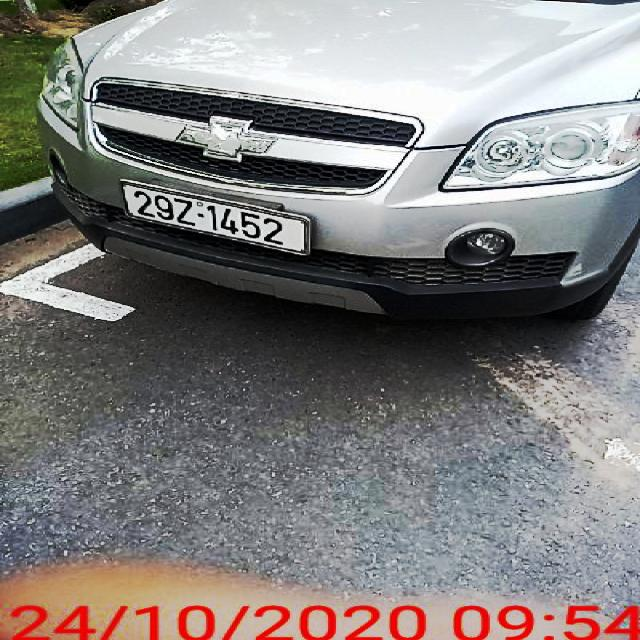license_plate: (125, 180, 311, 254)
